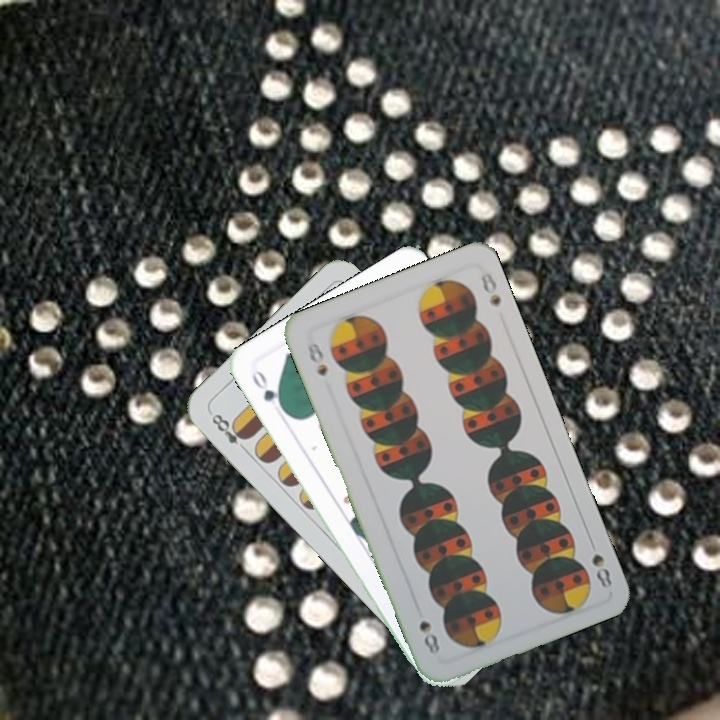E8: (207, 409, 252, 456)
GO: (247, 365, 289, 416)
S8: (584, 534, 615, 591), (303, 339, 330, 379)
